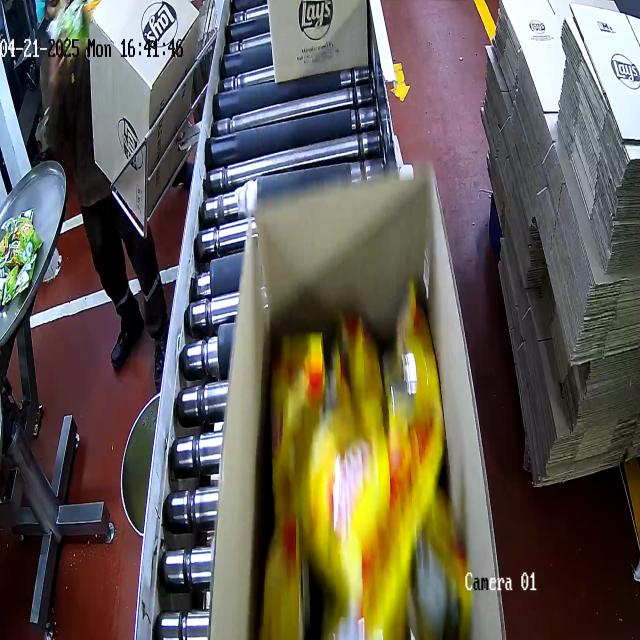SALTED: (266, 297, 460, 634)
